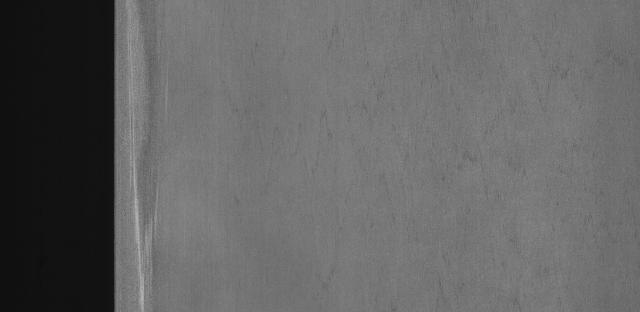silk_spot: (125, 32, 190, 298)
